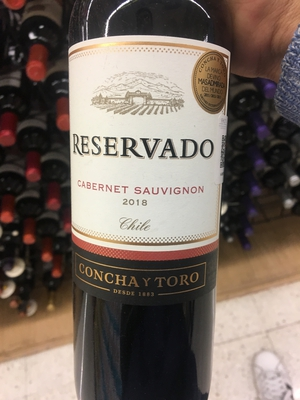reservado cabernet sauvignon: (62, 14, 235, 400)
